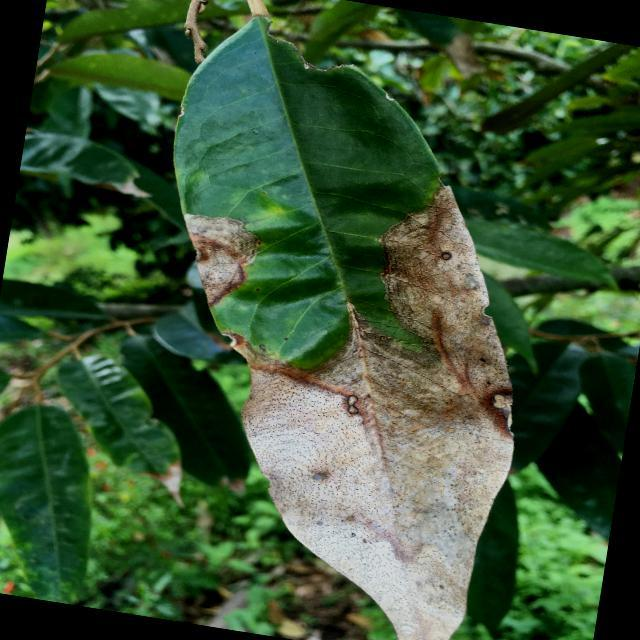Leaf Blight: (84, 0, 587, 639)
